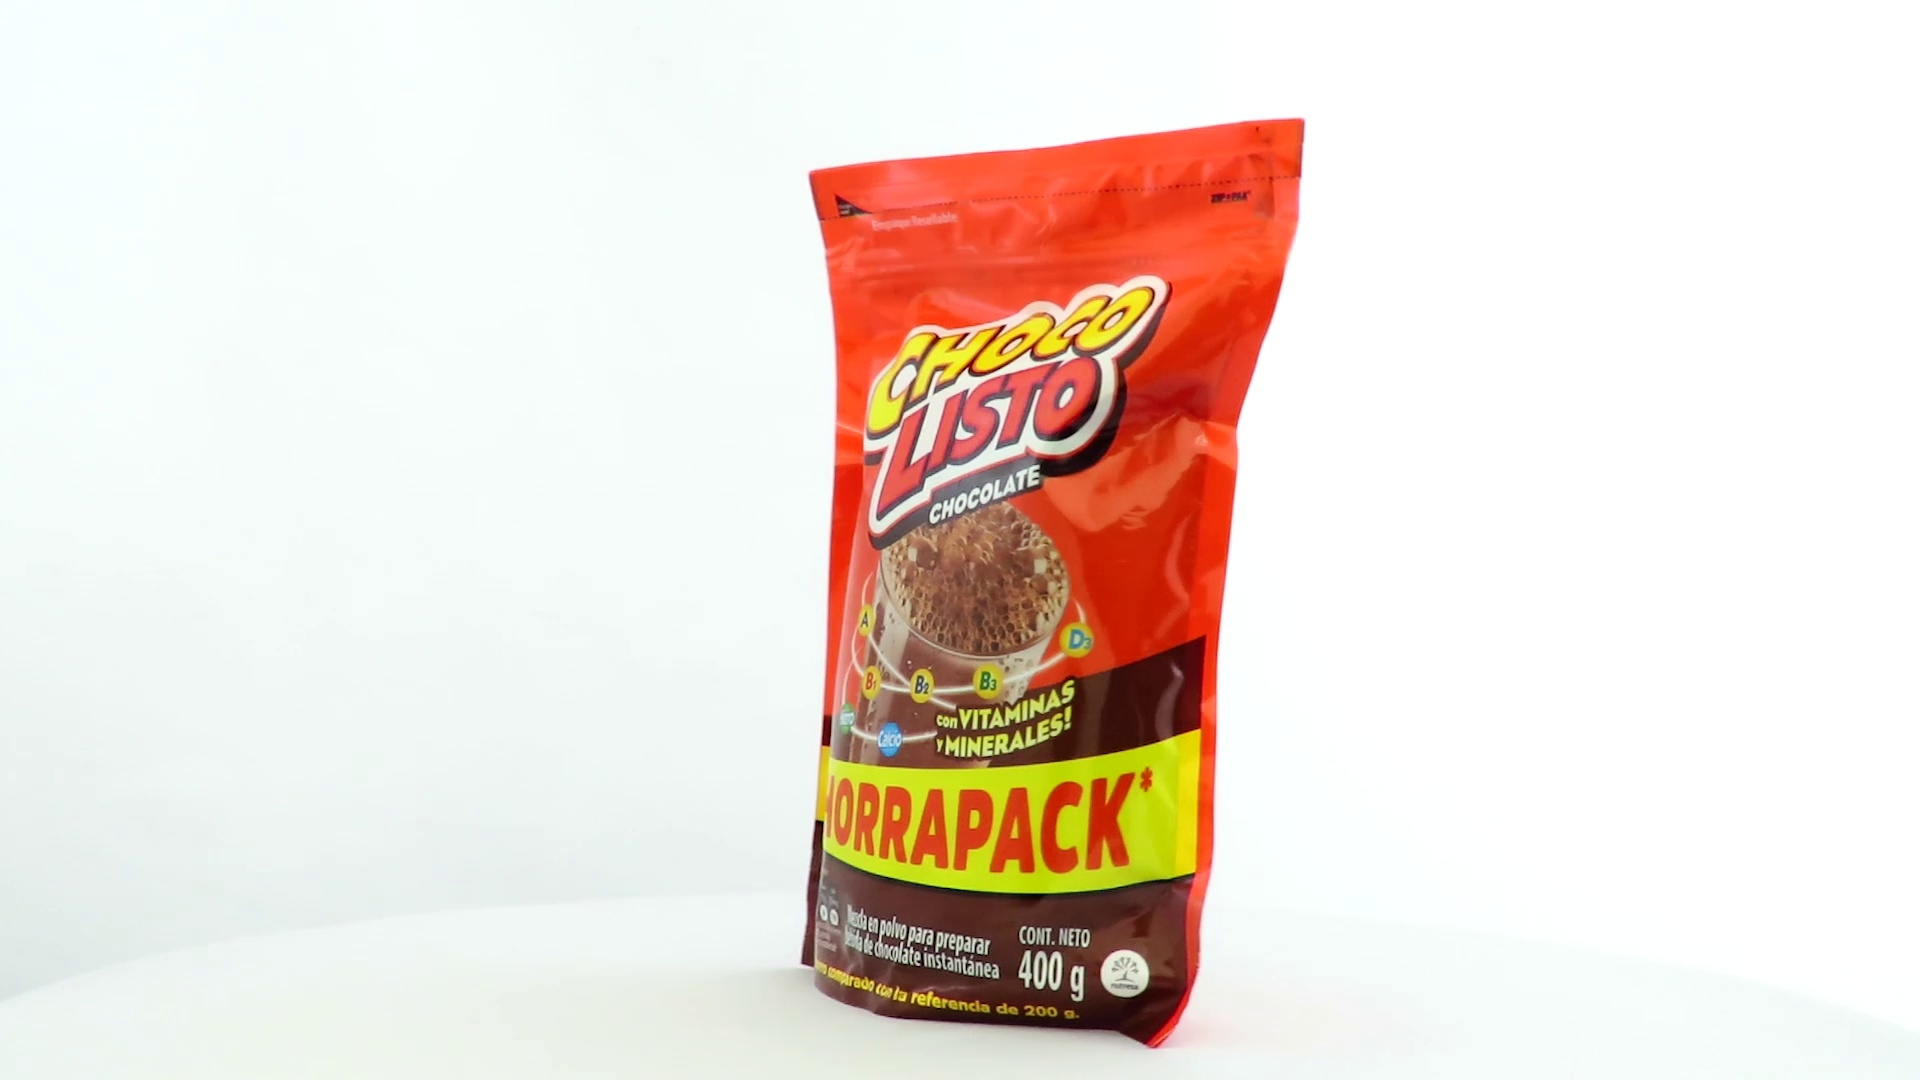COL0170103DYP40000: (796, 113, 1311, 1055)
